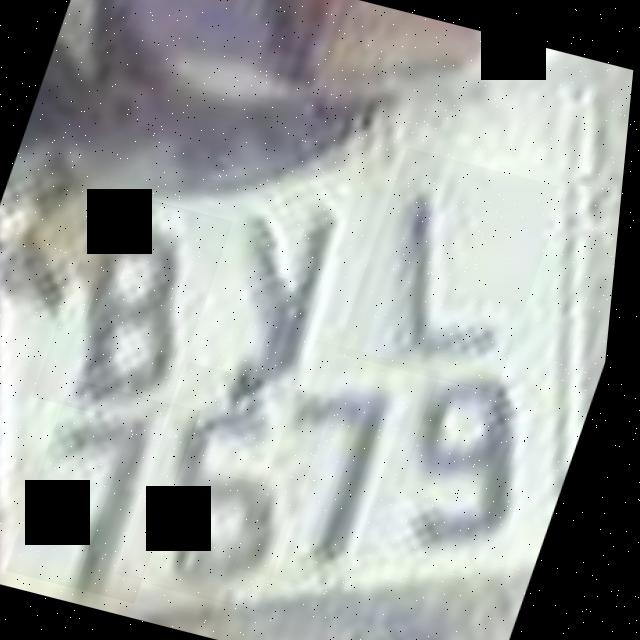6: (123, 362, 344, 612)
7: (245, 339, 450, 600), (14, 378, 211, 605)
9: (367, 327, 585, 573)
B: (37, 188, 240, 430)
J: (340, 148, 572, 394)
